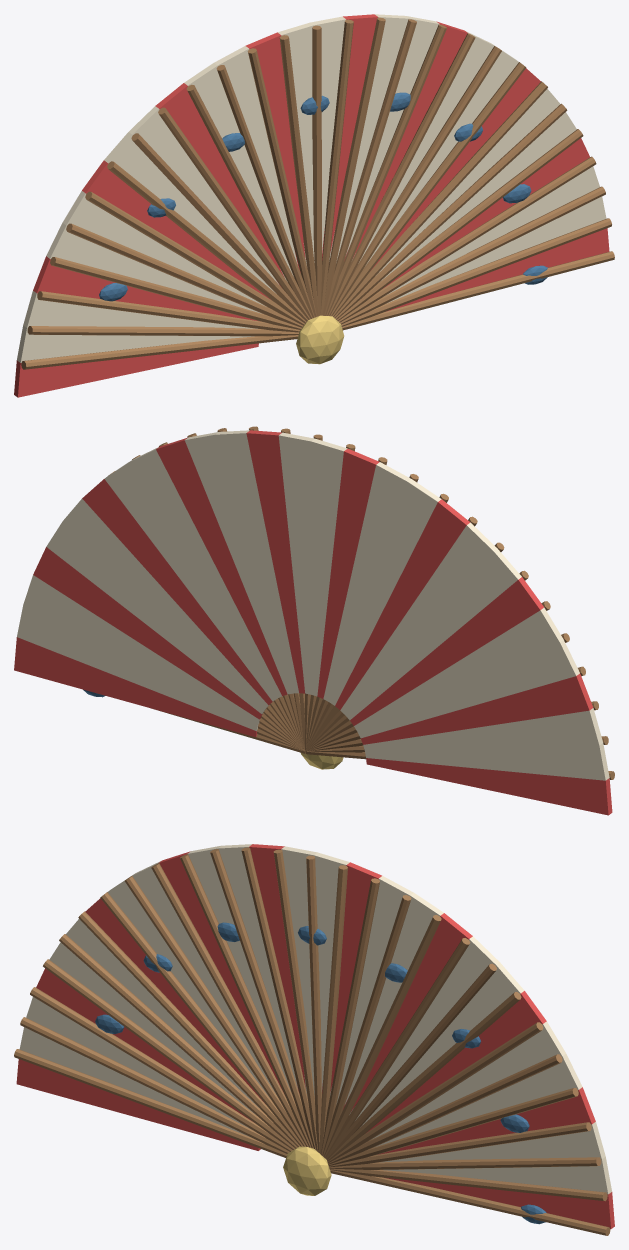
The model's file is wear_sensu.glb.
The picture shows the model from 3 angles, top to bottom: view 1: azimuth 30°, elevation 25°; view 2: azimuth 150°, elevation 25°; view 3: azimuth 330°, elevation 25°; orthographic projection.
Visible parts, largest first — view 1: Individual washi fan pleat27, Individual washi fan pleat25, Individual washi fan pleat23, Individual washi fan pleat22, Individual washi fan pleat18, Individual washi fan pleat19, Individual washi fan pleat26, Individual washi fan pleat16, Individual washi fan pleat20, Individual washi fan pleat21, Individual washi fan pleat15, Individual washi fan pleat17 (+45 smaller); view 2: Individual washi fan pleat13, Individual washi fan pleat24, Individual washi fan pleat23, Individual washi fan pleat25, Individual washi fan pleat26, Individual washi fan pleat22, Individual washi fan pleat16, Individual washi fan pleat15, Individual washi fan pleat27, Individual washi fan pleat17, Individual washi fan pleat18, Individual washi fan pleat21 (+16 smaller); view 3: Individual washi fan pleat27, Individual washi fan pleat9, Individual washi fan pleat8, Individual washi fan pleat4, Individual washi fan pleat5, Individual washi fan pleat2, Individual washi fan pleat1, Individual washi fan pleat11, Individual washi fan pleat6, Individual washi fan pleat7, Individual washi fan pleat12, Individual washi fan pleat0 (+45 smaller).
Part boxes in pixels (x1,y1,x2,y2): Individual washi fan pleat27: [14, 343, 258, 397]; Individual washi fan pleat25: [23, 291, 257, 328]; Individual washi fan pleat23: [46, 223, 261, 313]; Individual washi fan pleat22: [62, 191, 266, 306]; Individual washi fan pleat18: [155, 83, 284, 287]; Individual washi fan pleat19: [129, 106, 278, 293]; Individual washi fan pleat26: [17, 325, 254, 362]; Individual washi fan pleat16: [214, 46, 297, 276]; Individual washi fan pleat20: [104, 132, 274, 292]; Individual washi fan pleat21: [82, 160, 270, 299]; Individual washi fan pleat15: [245, 32, 305, 272]; Individual washi fan pleat17: [184, 63, 290, 281]; Individual washi fan pleat13: [278, 432, 314, 694]; Individual washi fan pleat24: [360, 673, 593, 744]; Individual washi fan pleat23: [357, 640, 579, 738]; Individual washi fan pleat25: [363, 708, 603, 751]; Individual washi fan pleat26: [365, 743, 609, 780]; Individual washi fan pleat22: [354, 607, 563, 731]; Individual washi fan pleat16: [323, 462, 410, 701]; Individual washi fan pleat15: [317, 448, 379, 698]; Individual washi fan pleat27: [366, 758, 612, 815]; Individual washi fan pleat17: [329, 479, 441, 705]; Individual washi fan pleat18: [335, 499, 470, 709]; Individual washi fan pleat21: [350, 577, 543, 725]; Individual washi fan pleat27: [16, 1059, 260, 1150]; Individual washi fan pleat9: [343, 913, 472, 1112]; Individual washi fan pleat8: [349, 936, 499, 1119]; Individual washi fan pleat4: [374, 1054, 582, 1147]; Individual washi fan pleat5: [369, 1021, 565, 1140]; Individual washi fan pleat2: [380, 1122, 605, 1162]; Individual washi fan pleat1: [383, 1156, 611, 1194]; Individual washi fan pleat11: [330, 876, 413, 1098]; Individual washi fan pleat6: [366, 991, 546, 1132]; Individual washi fan pleat7: [355, 962, 524, 1127]; Individual washi fan pleat12: [322, 862, 381, 1093]; Individual washi fan pleat0: [384, 1177, 614, 1229].
Size of the model in its own units: 1.95 by 1.05 by 0.0994.
